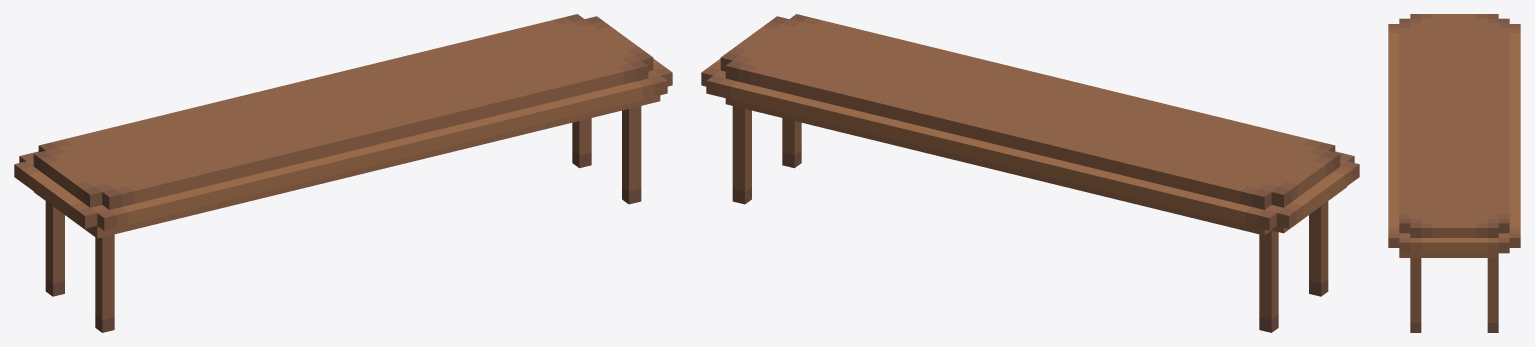
Rendered from Interior_Furniture-21.obj.
3 views of the same model, side by side, from view 1: azimuth 30°, elevation 25°; view 2: azimuth 150°, elevation 25°; view 3: azimuth 270°, elevation 25° (orthographic). The views are drawn at different scales.
Size of the model in its own units: 4.8 by 1.1 by 1.2.
Materials: 1 (1 with a texture image).
